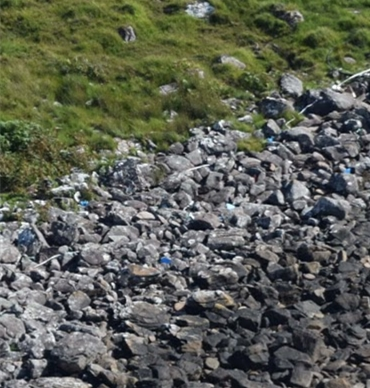tube: (285, 63, 370, 134)
white_in_green: (3, 213, 55, 258), (319, 148, 368, 193), (145, 235, 194, 280), (67, 182, 116, 227)
